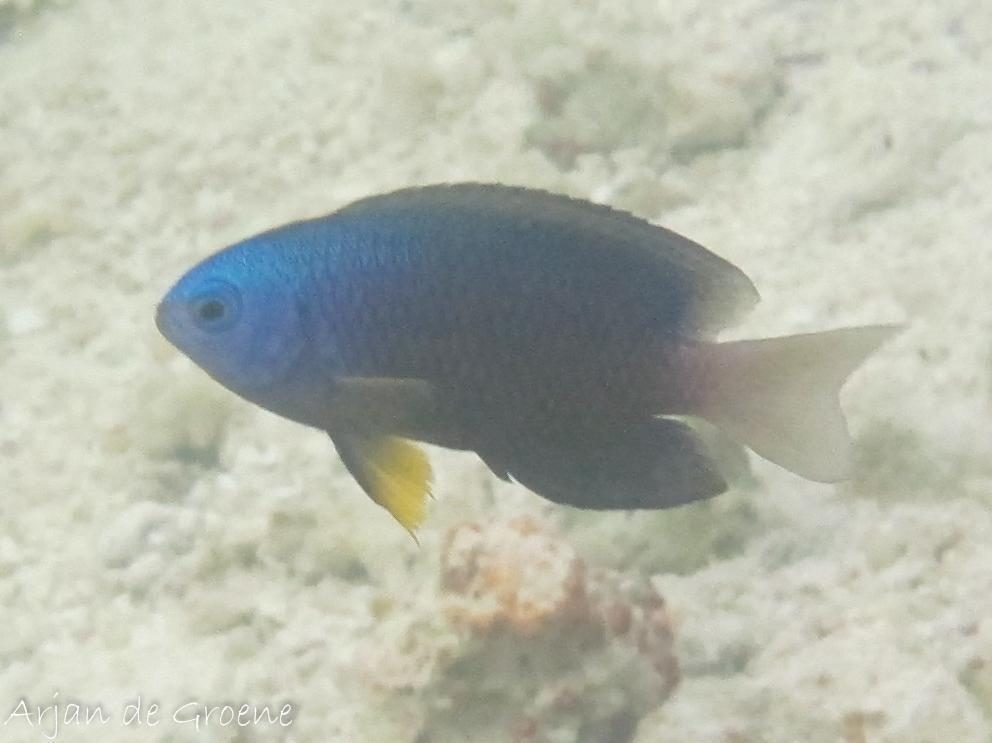Fish: (128, 155, 880, 570)
